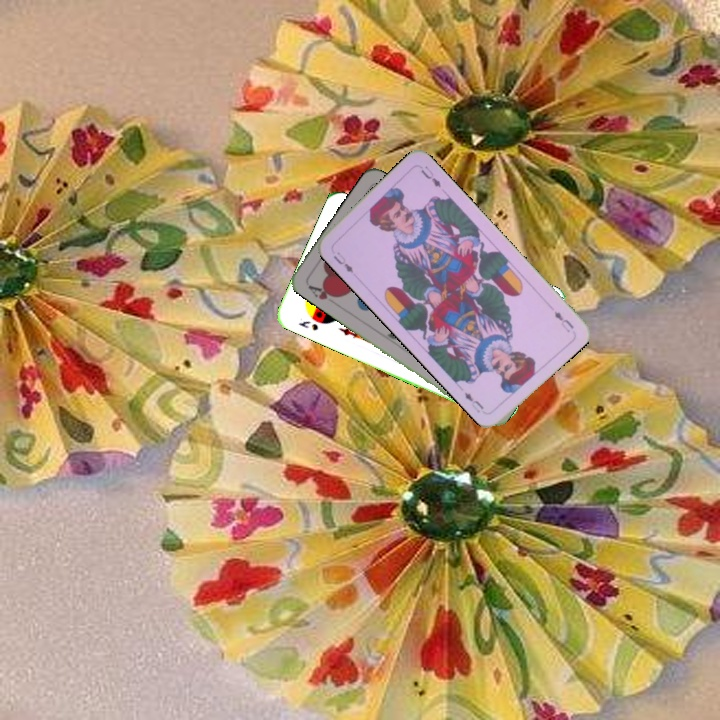EU: (329, 248, 356, 276), (550, 307, 577, 335)
HA: (303, 281, 342, 303)
SK: (295, 317, 321, 333)
